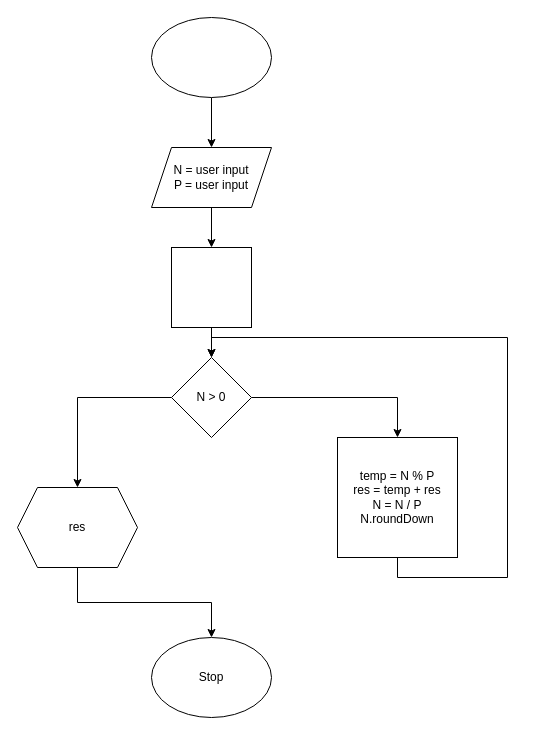
Image size: 533x735. Some labels were removed from this diagram. Here are the shapes that lost their labels. From the top down, the centre of each, then its label:
(211,57): Start
(211,287): res = ""
